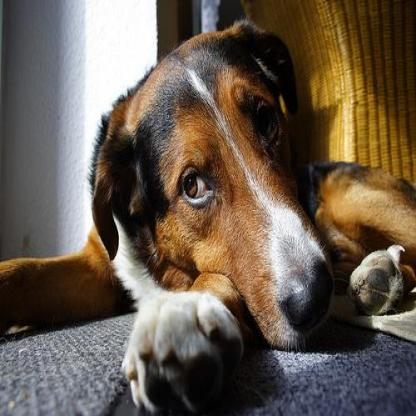Appenzeller: (0, 17, 414, 413)
